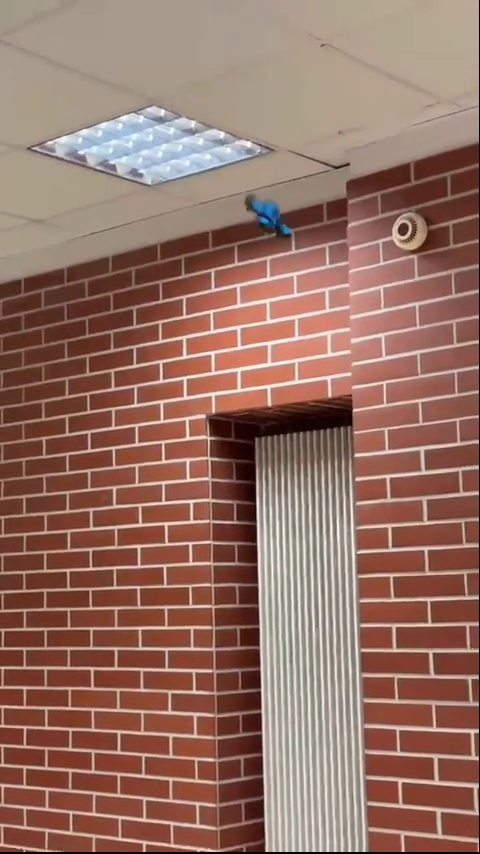drone: (242, 190, 303, 239)
